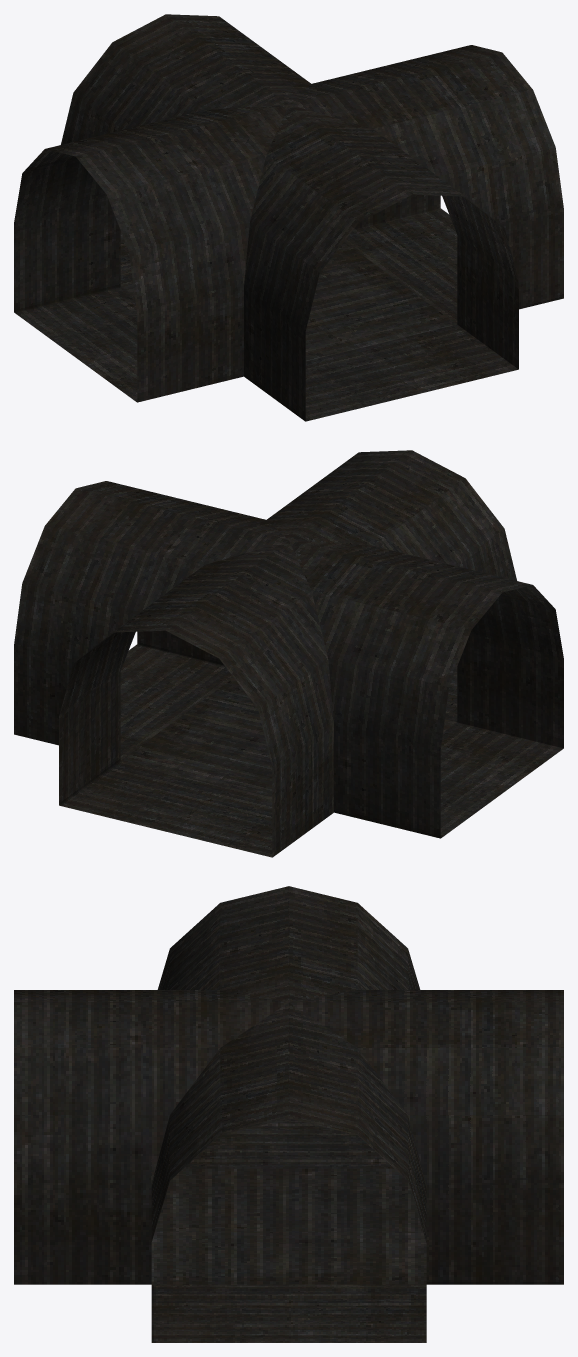
Rendered from tunnel_1_cross_tee.glb.
3 views of the same model, one above another, from view 1: azimuth 30°, elevation 25°; view 2: azimuth 150°, elevation 25°; view 3: azimuth 270°, elevation 25° (orthographic). The views are drawn at different scales.
Parts seen in each view (by area): view 1: tunnel_1_cross_tee; view 2: tunnel_1_cross_tee; view 3: tunnel_1_cross_tee.
Part boxes in pixels (x1,y1,x2,y2): tunnel_1_cross_tee: (14, 14, 563, 421); tunnel_1_cross_tee: (14, 450, 563, 857); tunnel_1_cross_tee: (14, 886, 563, 1342).
Size of the model in its own units: 4 by 1.8 by 4.
Materials: 1 (1 with a texture image).
